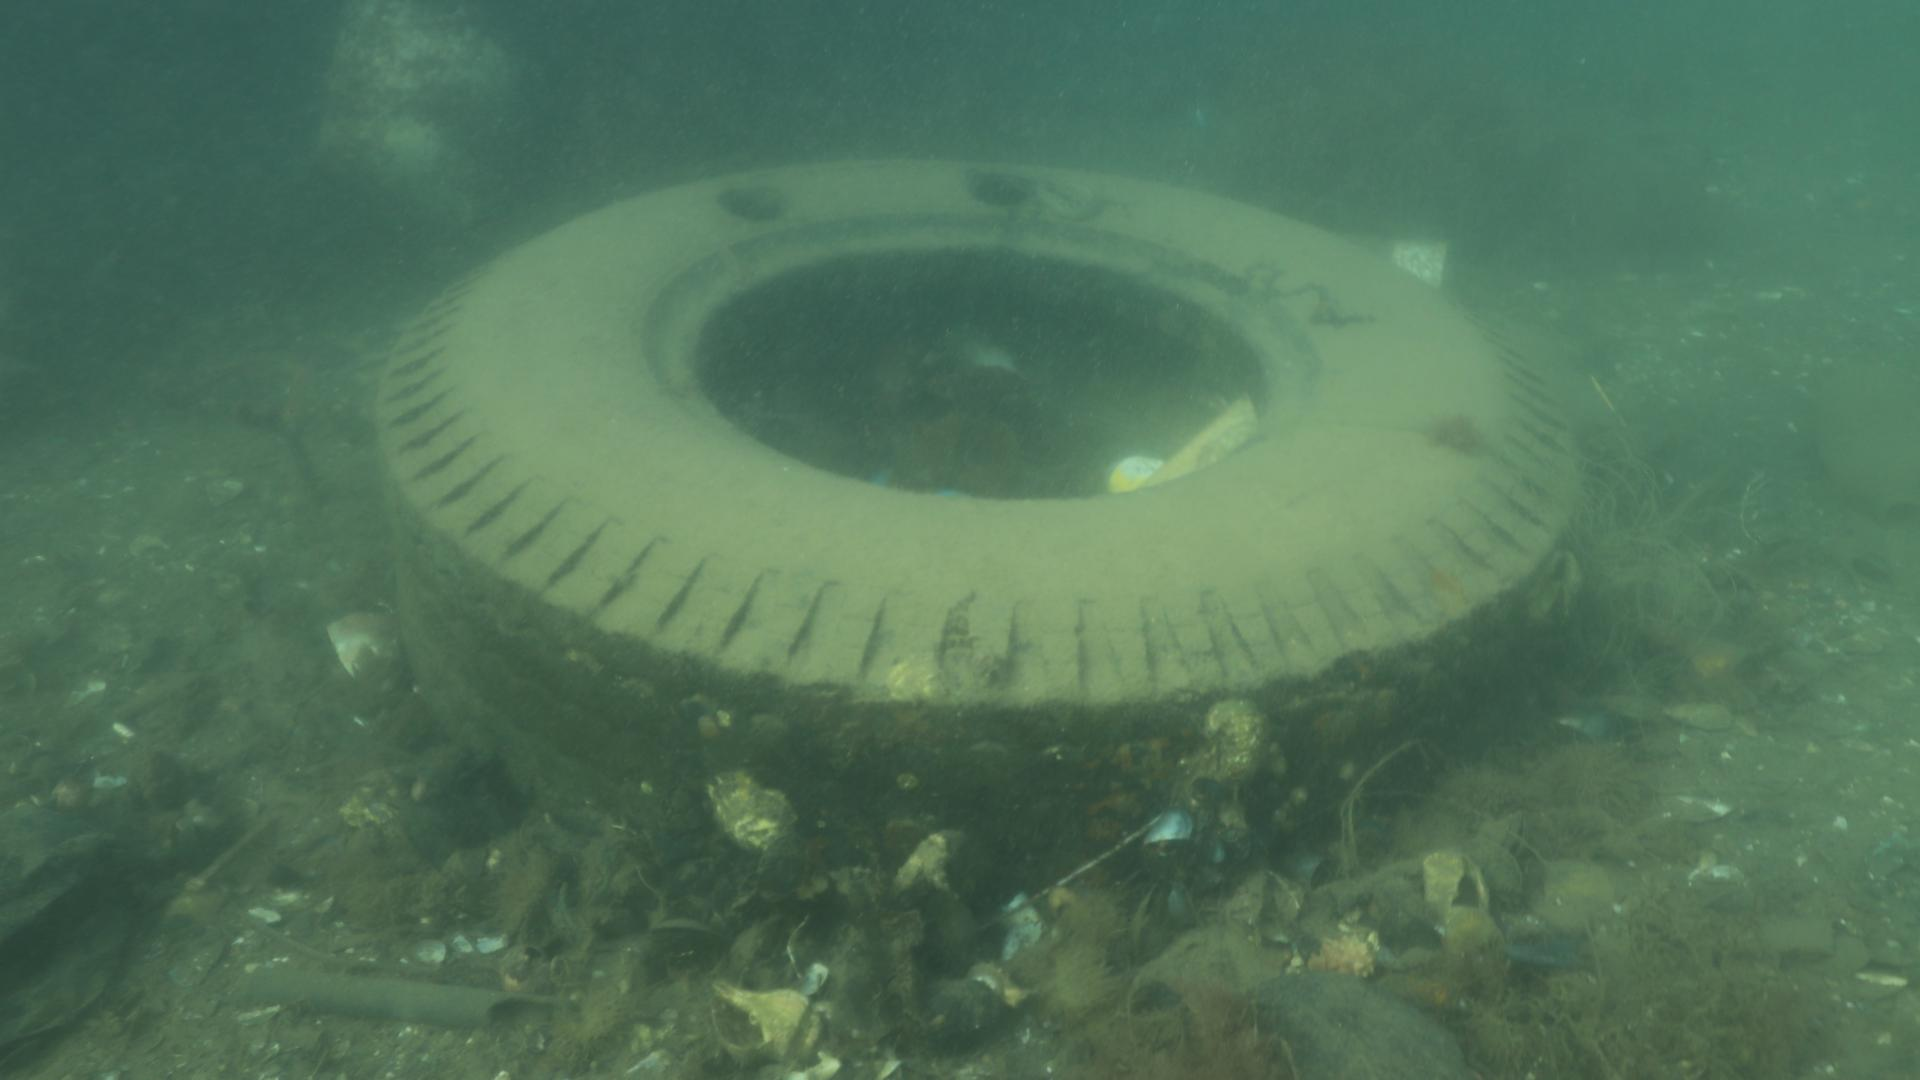tire: (378, 156, 1578, 938)
